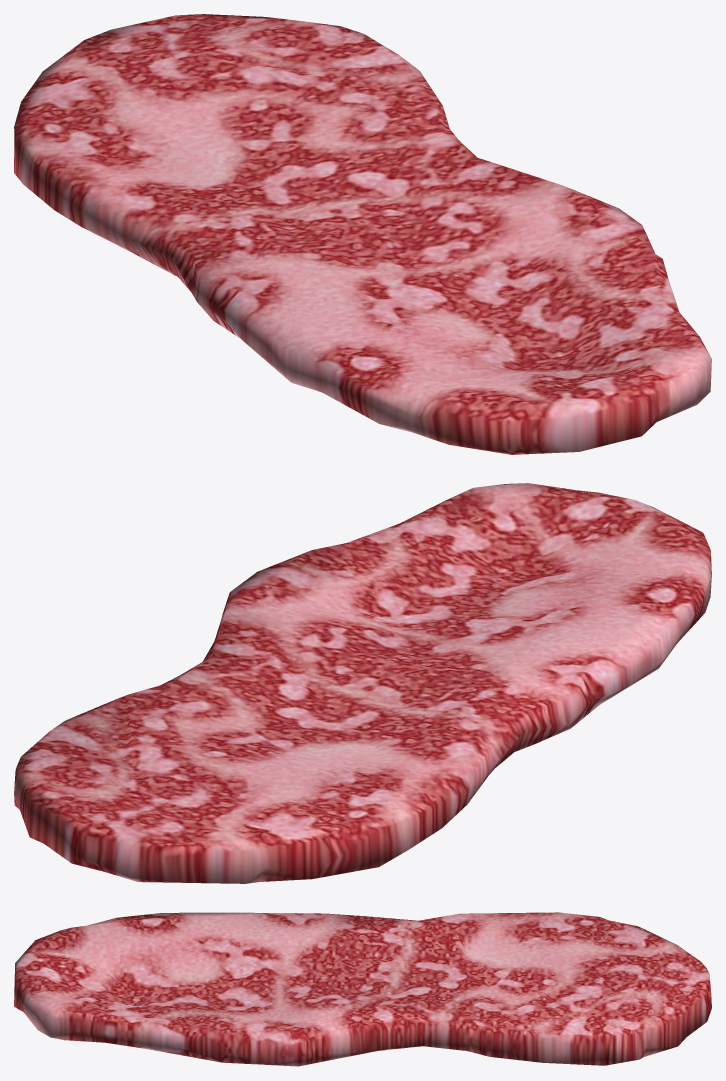
File: BeafSteak.glb
The picture shows the model from 3 angles, top to bottom: view 1: azimuth 30°, elevation 25°; view 2: azimuth 150°, elevation 25°; view 3: azimuth 270°, elevation 25°; orthographic projection. The views are drawn at different scales.
Parts seen in each view (by area): view 1: Plane; view 2: Plane; view 3: Plane.
Part boxes in pixels (<box>): Plane: <box>14,14,711,454</box>; Plane: <box>14,483,711,883</box>; Plane: <box>14,912,711,1066</box>.
Bounding box in the file's own units: 177 × 22.83 × 390.
1 material, 1 textured.
